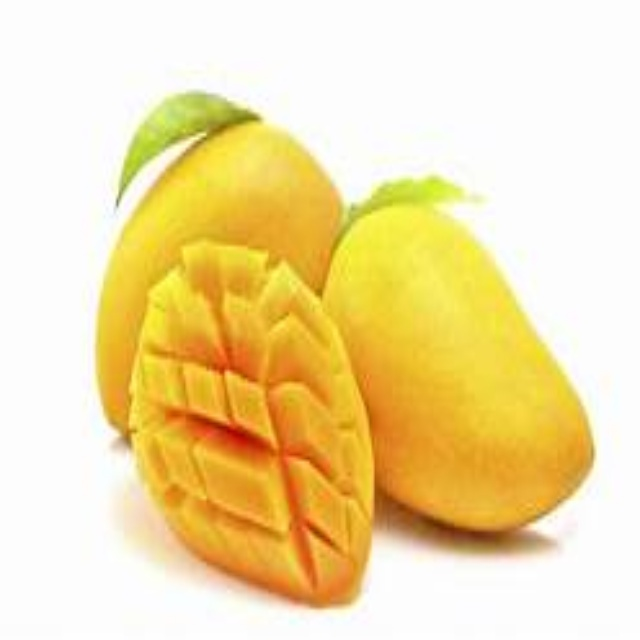mango: (326, 202, 600, 522), (95, 96, 342, 441), (138, 247, 374, 608)
